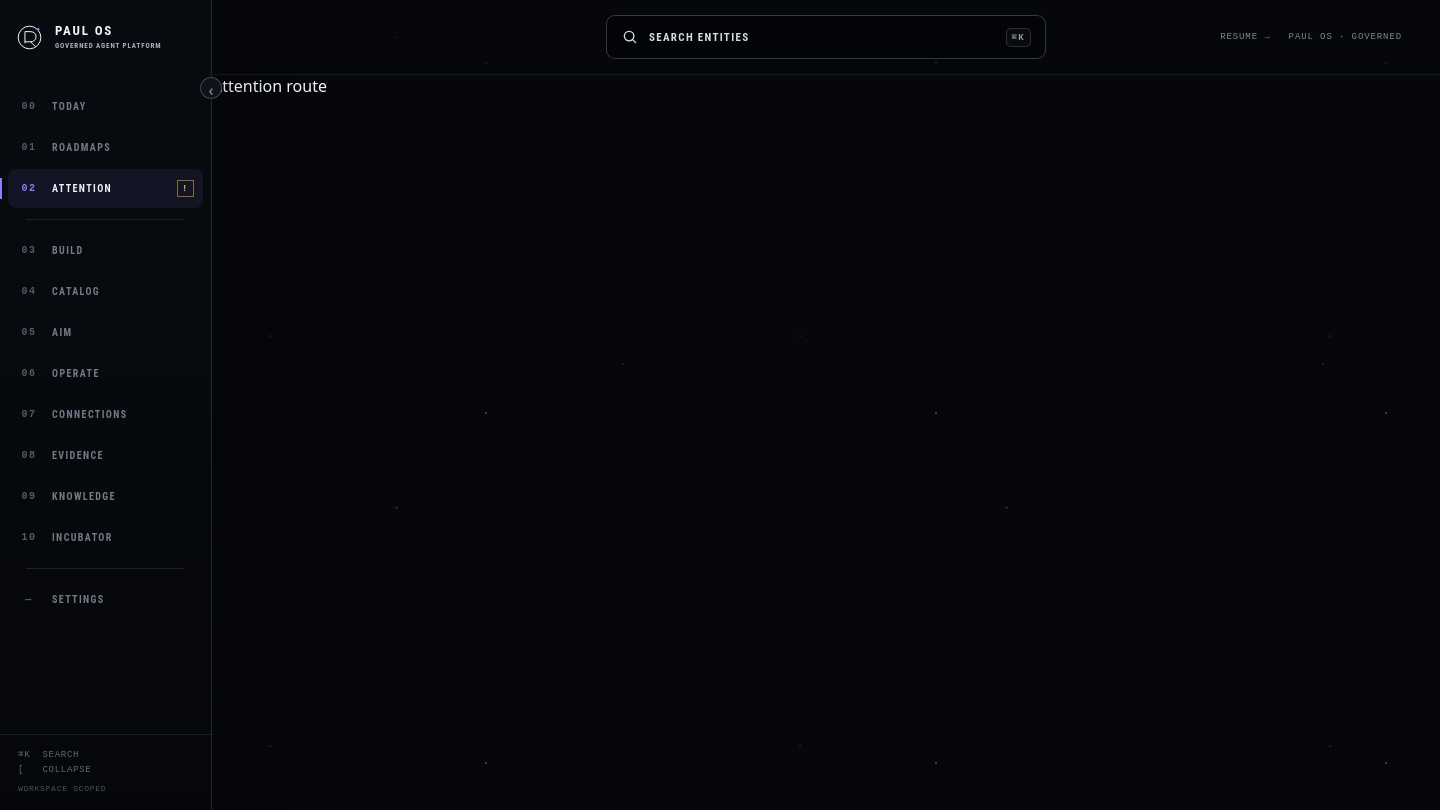
Test: Paul OS platform shell › offers a persisted Resume route after leaving a working surface
Click the 1st link named "TODAY".
click(54, 106)  # box [22,101,87,112]
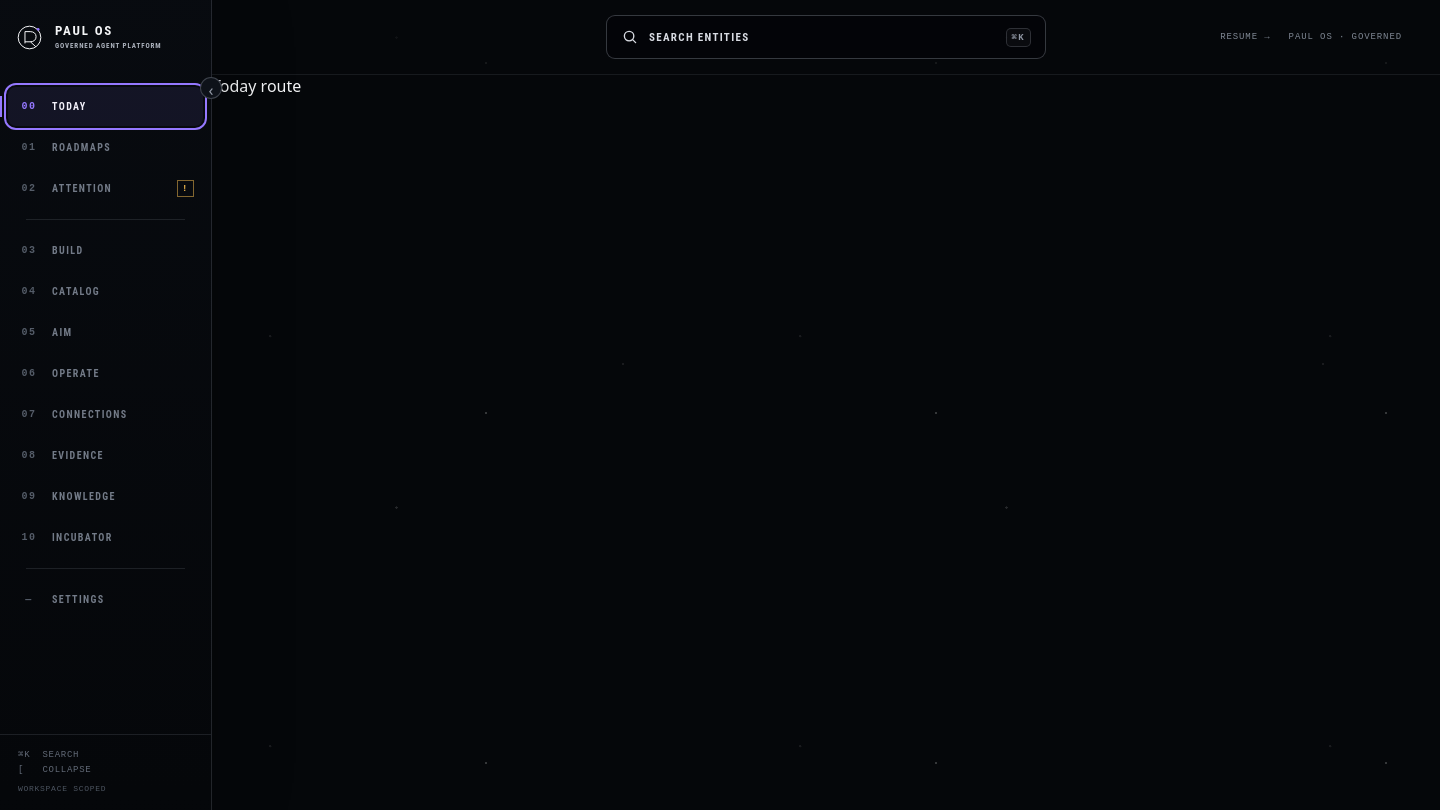
Check: the text "Today route" is shown, box [212,75,301,97]
